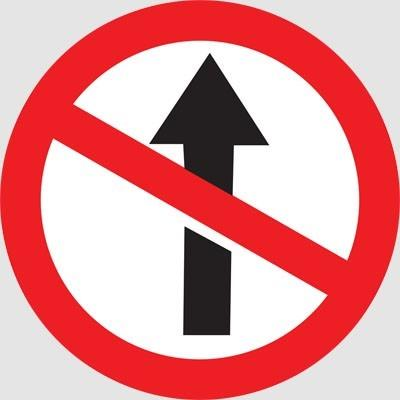Straight Prohibitor No Entry: (12, 18, 372, 379)
